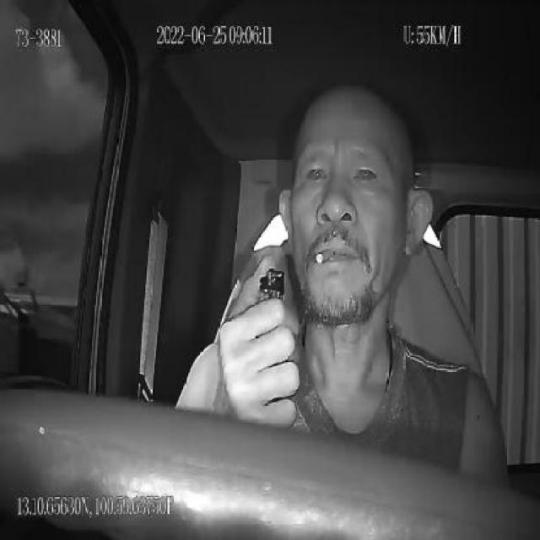smoking: (315, 248, 333, 265)
